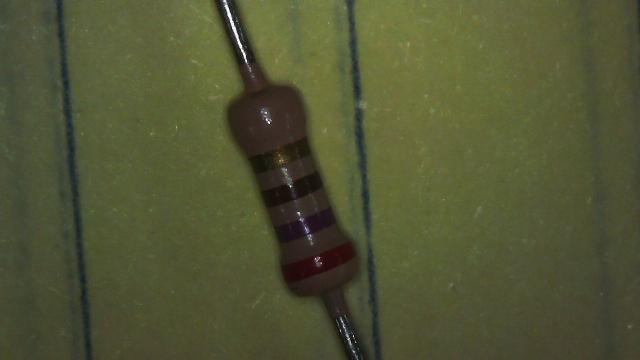brown: (262, 172, 322, 207)
gold: (249, 138, 310, 172)
red: (282, 241, 356, 282)
resistor: (198, 53, 393, 322)
violet: (274, 208, 335, 242)
